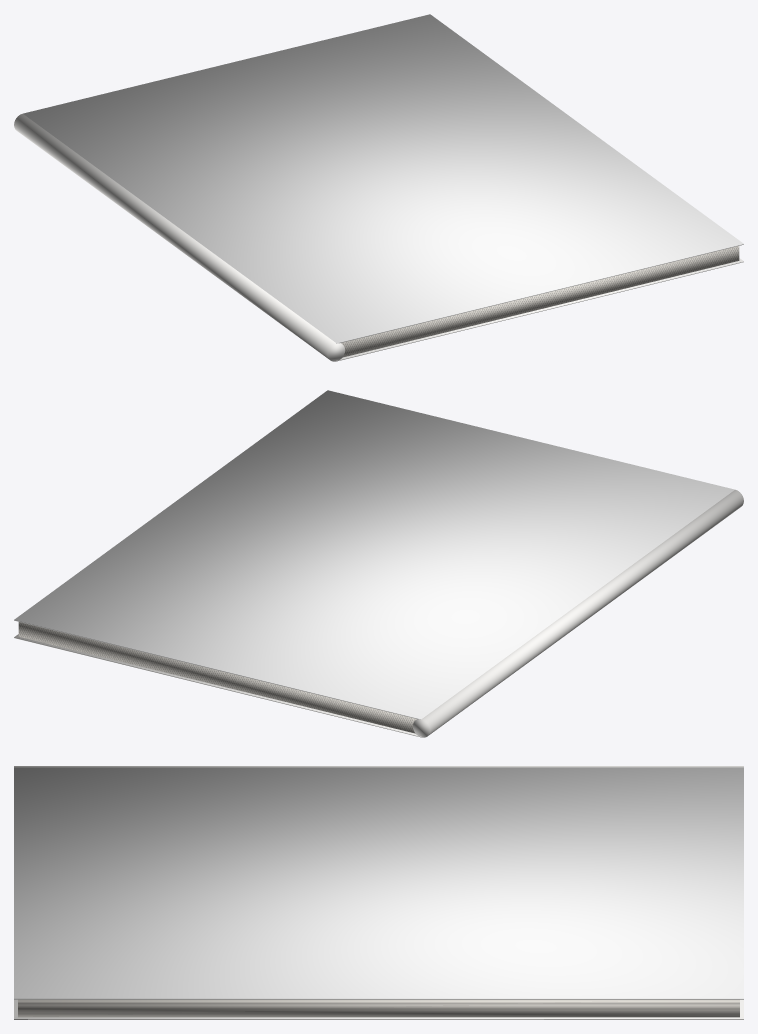
File: magazine_closed_ltr.glb
The picture shows the model from 3 angles, top to bottom: view 1: azimuth 30°, elevation 25°; view 2: azimuth 150°, elevation 25°; view 3: azimuth 270°, elevation 25°; orthographic projection. The views are drawn at different scales.
Parts seen in each view (by area): view 1: magazine_closed_ltr; view 2: magazine_closed_ltr; view 3: magazine_closed_ltr.
Boxes of the visible parts, x1,y1,x2,y2 form: magazine_closed_ltr: (14, 14, 743, 361); magazine_closed_ltr: (14, 390, 743, 737); magazine_closed_ltr: (14, 766, 743, 1019).
Size of the model in its own units: 0.2145 by 0.009 by 0.28.
3 materials, 1 textured.
